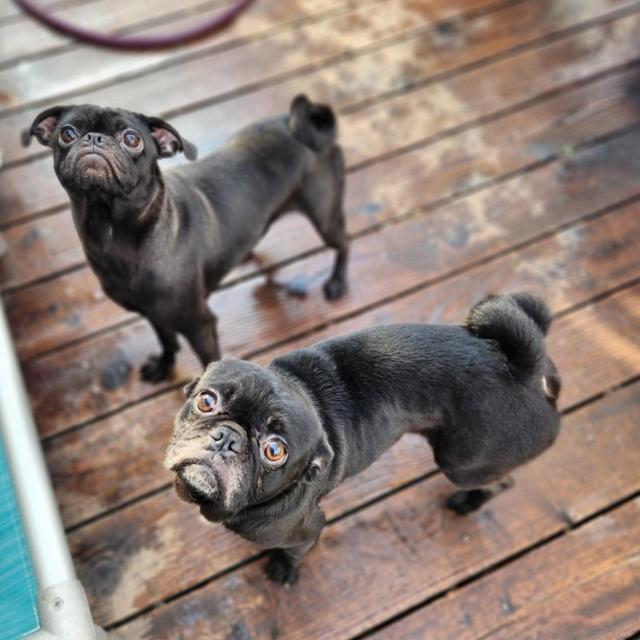pug_dog: (150, 351, 341, 535), (17, 88, 204, 230)
